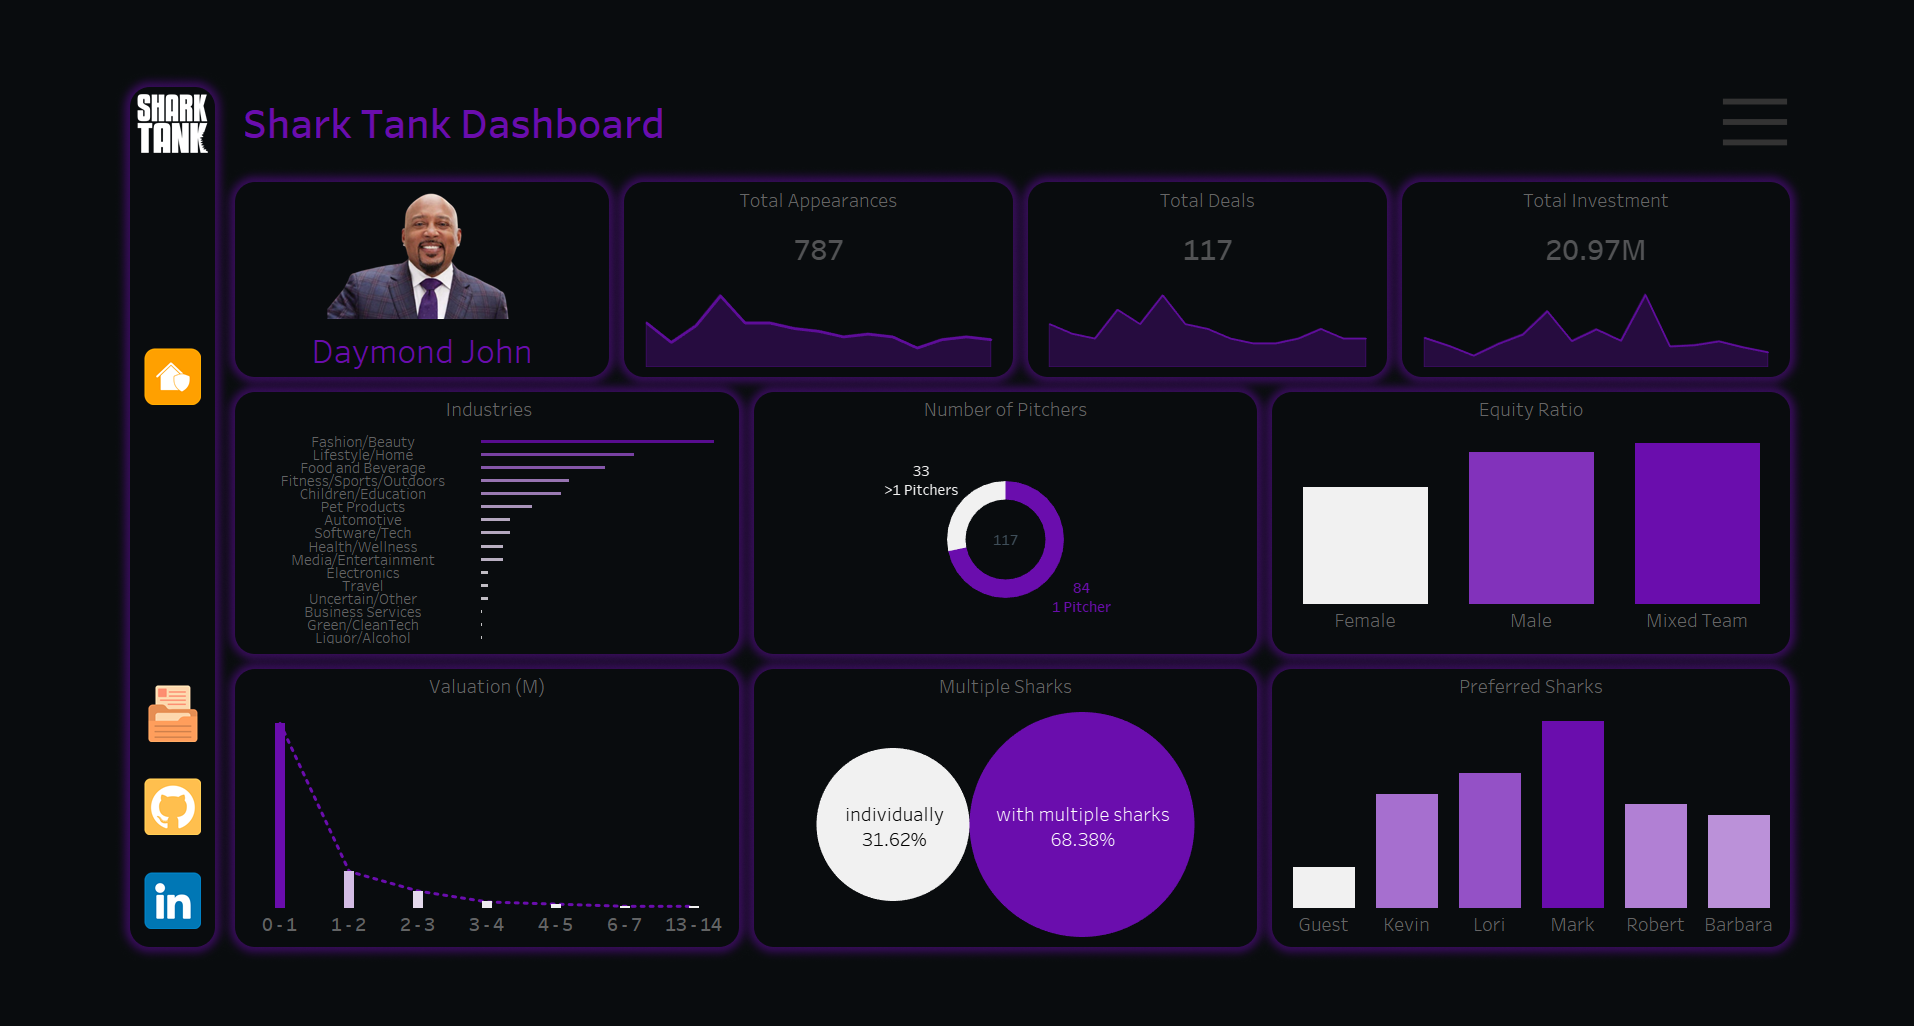

The dashboard page shown, as its layout file describes it:
{"tool":"tableau","page":{"name":"Daymond Dashboard","canvas":[1700,900],"ordinal":1},"visuals":[{"type":"image","param":"Image/Daymond Dashboard figma frame.png","box":[0,0,1700,900]},{"type":"image","param":"Image/Shark Tank Logo.png","box":[20,20,85,70]},{"type":"text","box":[125,20,1396,70]},{"type":"filter","title":"BAN Daymond Appearance ","param":"[federated.1ieom2h10l72pi1cs9e2u08v19sh].[none:industry:nk]","box":[1037,20,231,70]},{"type":"filter","title":"BAN Daymond Appearance ","param":"[federated.1ieom2h10l72pi1cs9e2u08v19sh].[none:season:ok]","box":[1268,20,253,70]},{"type":"blank","box":[1521,20,89,70]},{"type":"dashboard-object","box":[1610,20,70,70]},{"type":"blank","box":[20,90,85,156]},{"type":"image","param":"Image/Daymond John.png","box":[125,115,374,142]},{"type":"text","box":[514,115,389,35]},{"type":"text","box":[918,115,359,35]},{"type":"text","box":[1292,115,388,35]},{"type":"worksheet","title":"BAN Daymond Appearance ","mark":"Text","box":[514,150,389,63]},{"type":"worksheet","title":"BAN Daymond Deals","mark":"Text","box":[918,150,359,63]},{"type":"worksheet","title":"BAN Daymond Total Investment","mark":"Text","box":[1292,150,388,63]},{"type":"worksheet","title":"Daymond Appearances ","mark":"Area","rows":["daymond","daymond"],"cols":["season"],"box":[514,213,389,97]},{"type":"worksheet","title":"Daymond Deals","mark":"Line","rows":["Daymond_invested","Daymond_invested"],"cols":["season"],"box":[918,213,359,97]},{"type":"worksheet","title":"Daymond Total Investment","mark":"Line","rows":["daymond_inv_amt","daymond_inv_amt"],"cols":["season"],"box":[1292,213,388,97]},{"type":"dashboard-object","box":[20,246,85,128]},{"type":"text","box":[125,257,374,53]},{"type":"text","box":[125,325,504,33]},{"type":"text","box":[644,325,503,33]},{"type":"text","box":[1162,325,518,33]},{"type":"worksheet","title":"Daymond Top 5 Industries by No of Deals","mark":"Bar","rows":["industry"],"cols":["Daymond_invested"],"box":[125,358,504,229]},{"type":"worksheet","title":"Daymond Preferences for No of Pitchers","mark":"Pie","rows":["Calculation_1245245364195418118","Calculation_1245245364195418118"],"box":[644,358,503,229]},{"type":"worksheet","title":"Daymond Preferences for Offered:Deal Ratio","mark":"Automatic","rows":["Calculation_2397322443195224066"],"cols":["gender"],"box":[1162,358,518,229]},{"type":"blank","box":[20,374,85,226]},{"type":"image","param":"Image/portfolio-folder.png","box":[20,600,85,93.3]},{"type":"text","box":[125,602,504,33]},{"type":"text","box":[644,602,503,33]},{"type":"text","box":[1162,602,518,33]},{"type":"worksheet","title":"Daymond Mode of Deal Valuation (M)","mark":"Line","rows":["data_1A36516F31B94259A03002EB3918A69C","data_1A36516F31B94259A03002EB3918A69C"],"cols":["Deal Valuation (bin)"],"box":[125,635,504,245]},{"type":"worksheet","title":"Daymond Preferences for Multi Shark Deals","mark":"Circle","box":[644,635,503,245]},{"type":"worksheet","title":"Daymond Shark Pairing Preferences","mark":"Automatic","cols":["Daymond_invested"],"box":[1162,635,518,245]},{"type":"image","param":"Image/github.png","box":[20,693.3,85,93.3]},{"type":"image","param":"Image/follow-me-on-linkedin-social-badge.png","box":[20,786.7,85,93.3]}]}

Visuals, with their boxes in screenshot pixels (x1, y1, x2, y2), scaled from the page's 1700x900 canvas onto the 1914x1026 screenshot:
image: box=[0, 0, 1913, 1025]
image: box=[23, 23, 118, 103]
text: box=[141, 23, 1712, 103]
"BAN Daymond Appearance " filter: box=[1168, 23, 1428, 103]
"BAN Daymond Appearance " filter: box=[1428, 23, 1712, 103]
blank: box=[1712, 23, 1813, 103]
dashboard-object: box=[1813, 23, 1891, 103]
blank: box=[23, 103, 118, 280]
image: box=[141, 131, 562, 293]
text: box=[579, 131, 1017, 171]
text: box=[1034, 131, 1438, 171]
text: box=[1455, 131, 1891, 171]
"BAN Daymond Appearance " worksheet (Text marks): box=[579, 171, 1017, 243]
"BAN Daymond Deals" worksheet (Text marks): box=[1034, 171, 1438, 243]
"BAN Daymond Total Investment" worksheet (Text marks): box=[1455, 171, 1891, 243]
"Daymond Appearances " worksheet (Area marks): box=[579, 243, 1017, 353]
"Daymond Deals" worksheet (Line marks): box=[1034, 243, 1438, 353]
"Daymond Total Investment" worksheet (Line marks): box=[1455, 243, 1891, 353]
dashboard-object: box=[23, 280, 118, 426]
text: box=[141, 293, 562, 353]
text: box=[141, 370, 708, 408]
text: box=[725, 370, 1291, 408]
text: box=[1308, 370, 1891, 408]
"Daymond Top 5 Industries by No of Deals" worksheet (Bar marks): box=[141, 408, 708, 669]
"Daymond Preferences for No of Pitchers" worksheet (Pie marks): box=[725, 408, 1291, 669]
"Daymond Preferences for Offered:Deal Ratio" worksheet: box=[1308, 408, 1891, 669]
blank: box=[23, 426, 118, 684]
image: box=[23, 684, 118, 790]
text: box=[141, 686, 708, 724]
text: box=[725, 686, 1291, 724]
text: box=[1308, 686, 1891, 724]
"Daymond Mode of Deal Valuation (M)" worksheet (Line marks): box=[141, 724, 708, 1003]
"Daymond Preferences for Multi Shark Deals" worksheet (Circle marks): box=[725, 724, 1291, 1003]
"Daymond Shark Pairing Preferences" worksheet: box=[1308, 724, 1891, 1003]
image: box=[23, 790, 118, 897]
image: box=[23, 897, 118, 1003]
